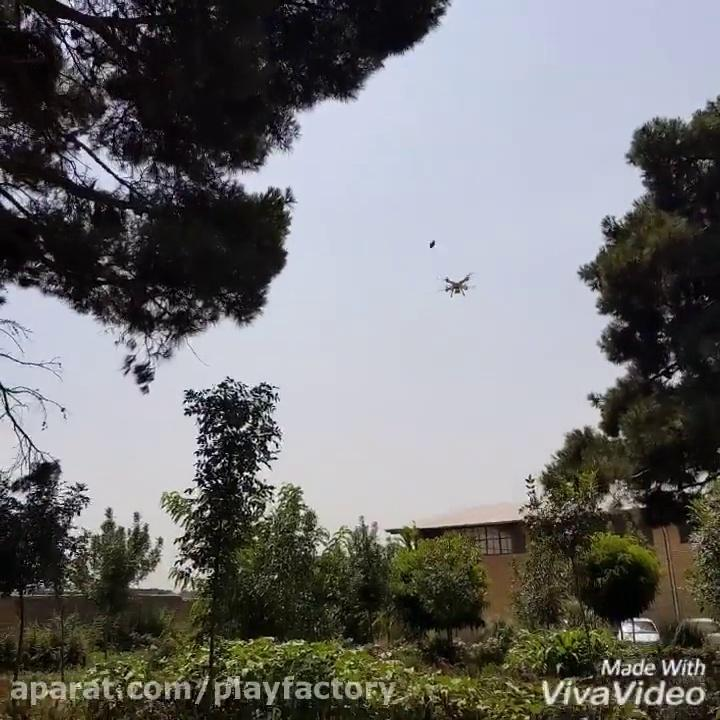drone: (437, 270, 478, 300)
